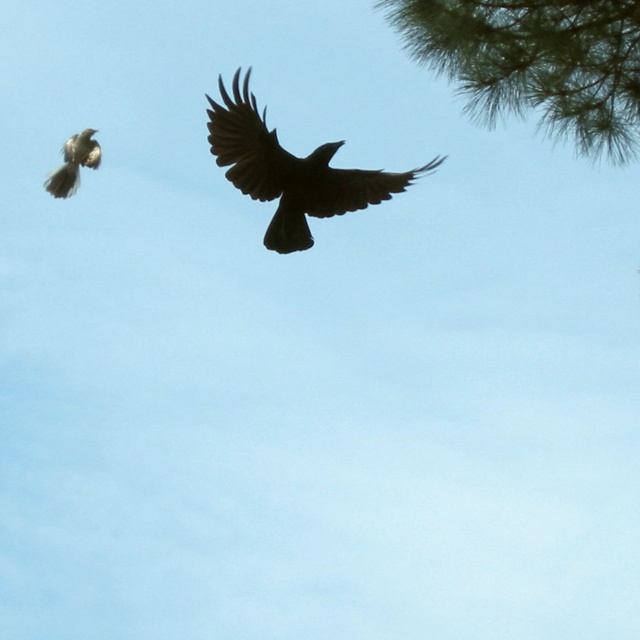Eagle: (202, 67, 449, 255), (42, 128, 103, 200)
